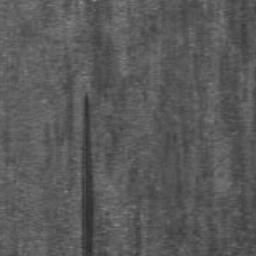Scratches: (81, 92, 95, 256)
